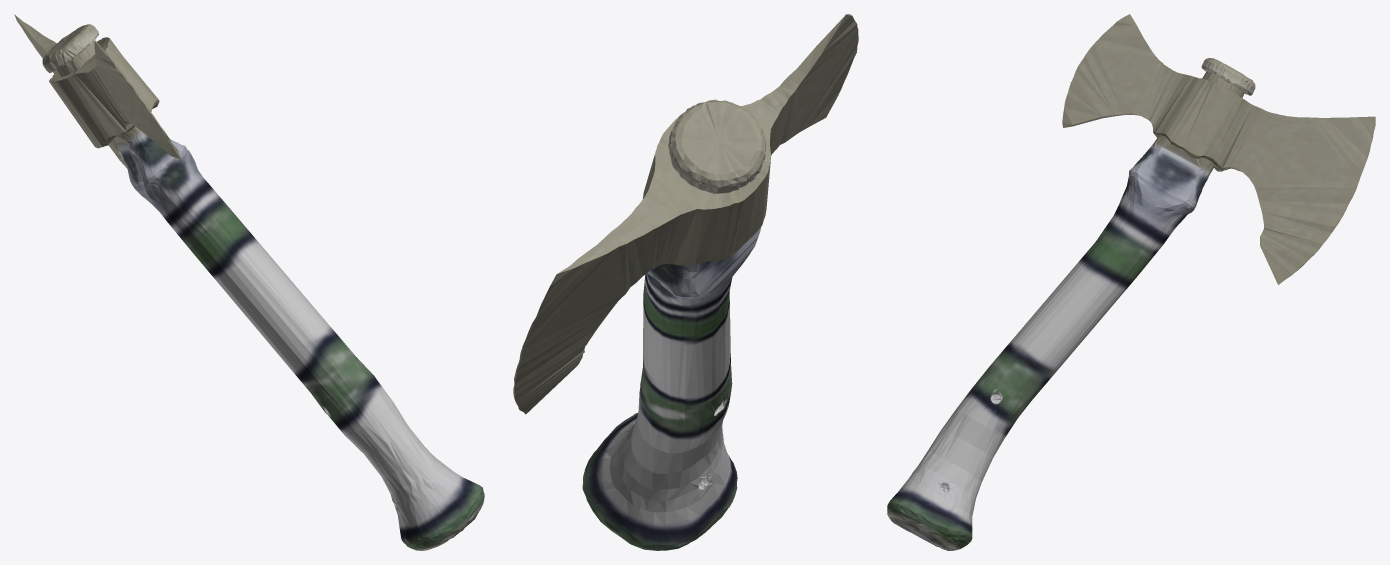
File: axe.glb
3 renders of one model, left to right at view 1: azimuth 30°, elevation 25°; view 2: azimuth 150°, elevation 25°; view 3: azimuth 270°, elevation 25°, orthographic. The views are drawn at different scales.
Parts seen in each view (by area): view 1: tripo_node_48f64937-bba4-48ab-a66c-eb431b02d375; view 2: tripo_node_48f64937-bba4-48ab-a66c-eb431b02d375; view 3: tripo_node_48f64937-bba4-48ab-a66c-eb431b02d375.
Part boxes in pixels (x1,y1,x2,y2): tripo_node_48f64937-bba4-48ab-a66c-eb431b02d375: [14, 14, 484, 550]; tripo_node_48f64937-bba4-48ab-a66c-eb431b02d375: [513, 14, 858, 550]; tripo_node_48f64937-bba4-48ab-a66c-eb431b02d375: [887, 14, 1375, 550].
Bounding box in the file's own units: 0.5801 × 0.9785 × 0.998.
1 material, 1 textured.
